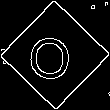O_N: (33, 29, 77, 81)
